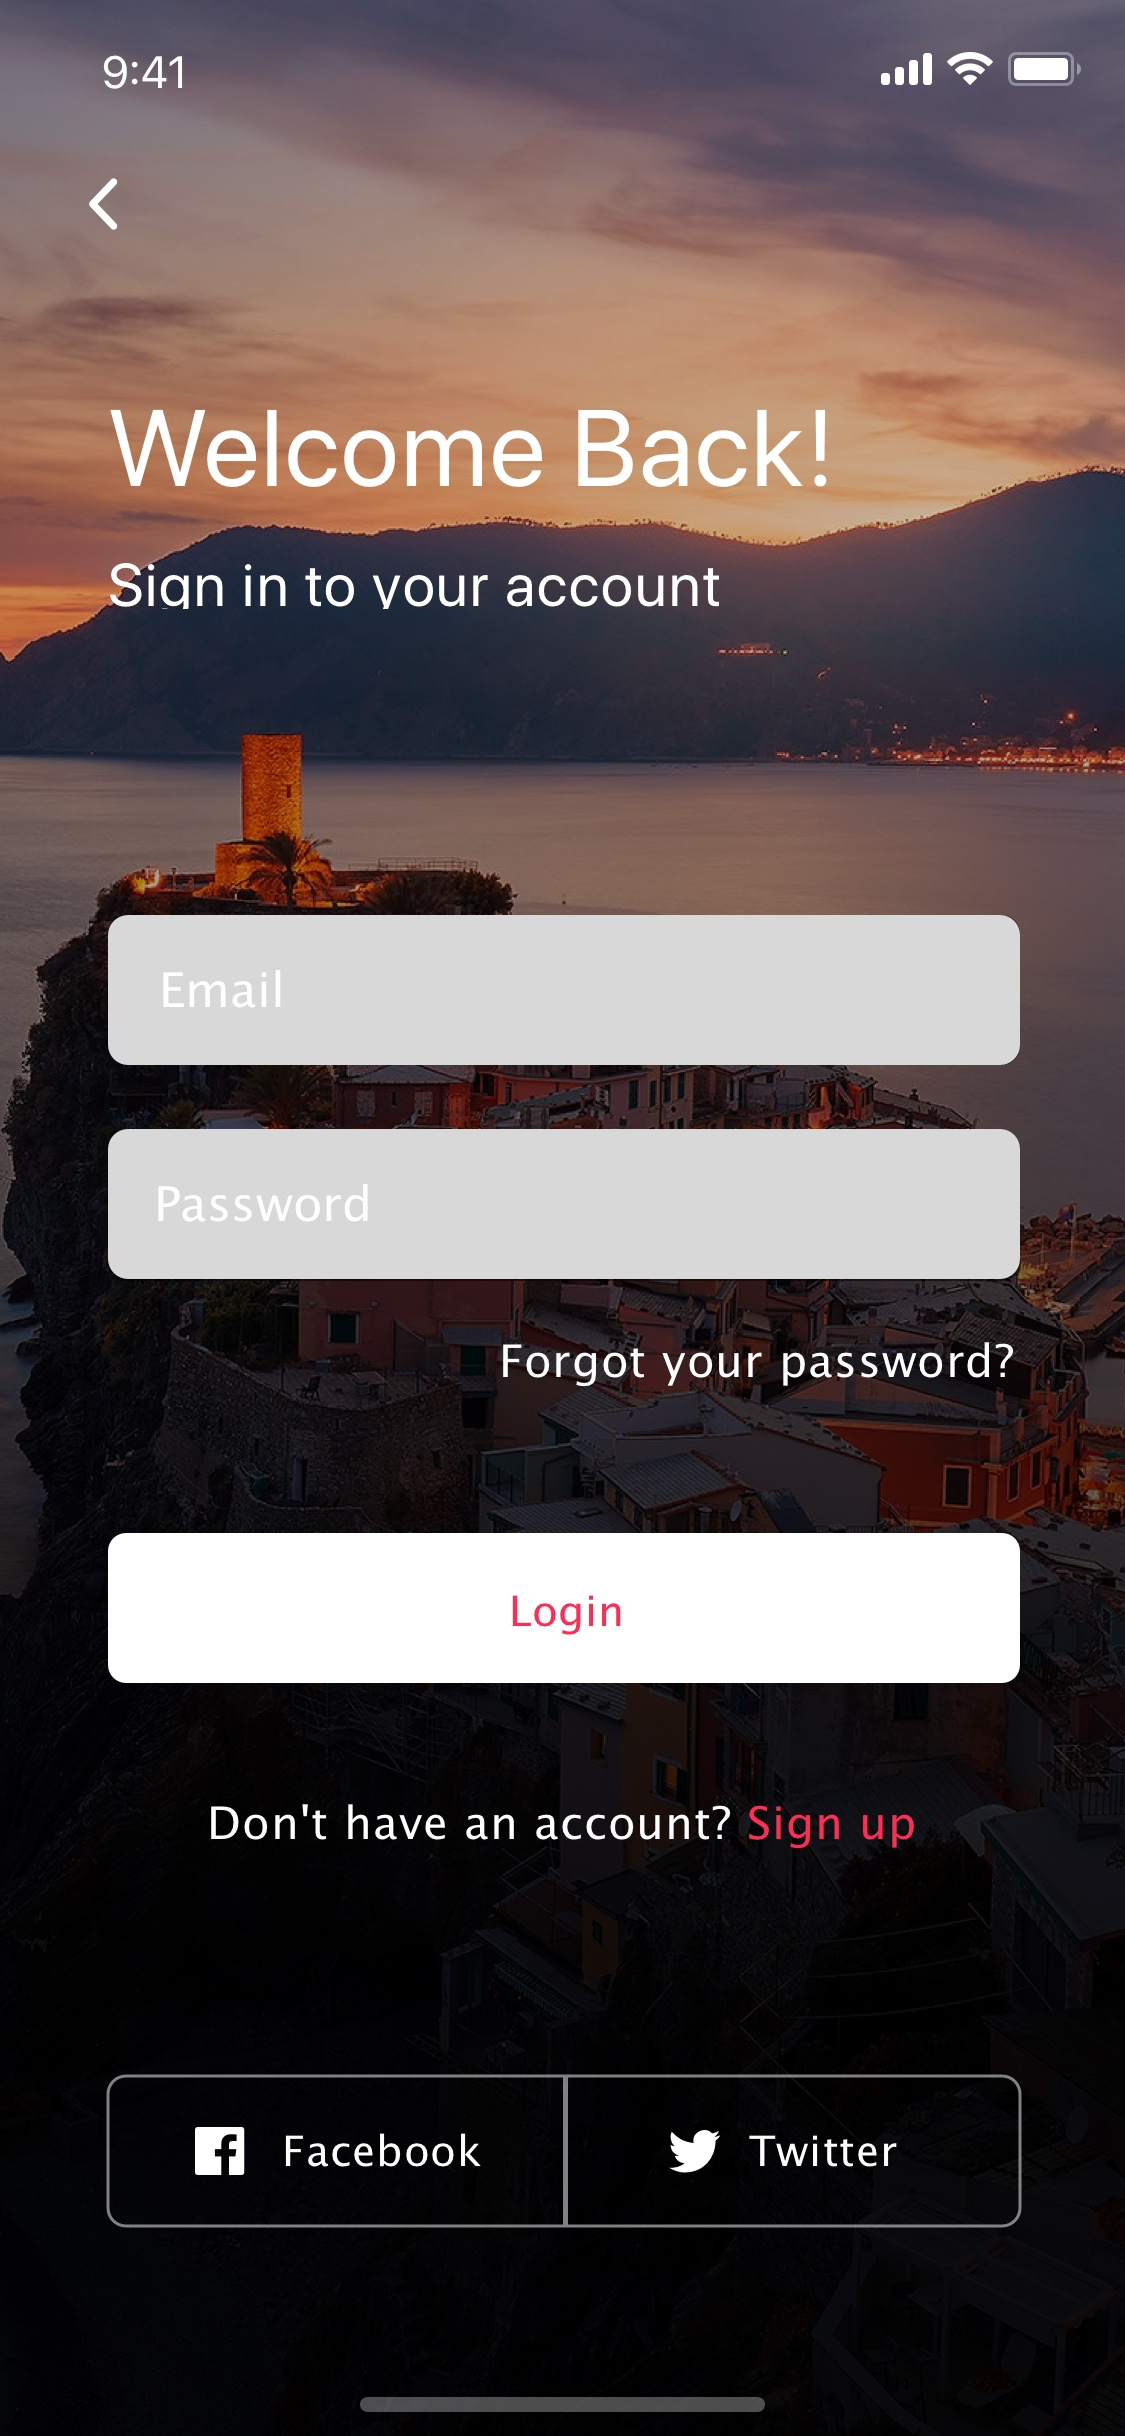BackgroundImage: (2, 2, 1125, 2436)
EditText: (109, 915, 1021, 1066), (109, 1129, 1021, 1280)
Icon: (89, 179, 120, 231)
Text: (110, 409, 828, 488), (211, 1804, 915, 1850), (110, 562, 721, 611), (502, 1341, 1015, 1387), (158, 1182, 370, 1224), (163, 969, 283, 1010)
TextButton: (109, 1533, 1021, 1684), (106, 2074, 569, 2228), (562, 2074, 1022, 2228)
UpperTaskBar: (104, 51, 1081, 92)
